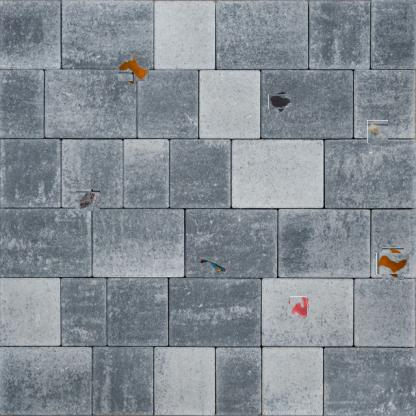dirty: (119, 55, 147, 83), (379, 250, 407, 277), (76, 189, 100, 211), (200, 257, 228, 275), (367, 120, 388, 143)
liquid: (289, 297, 308, 317), (270, 92, 290, 111)
